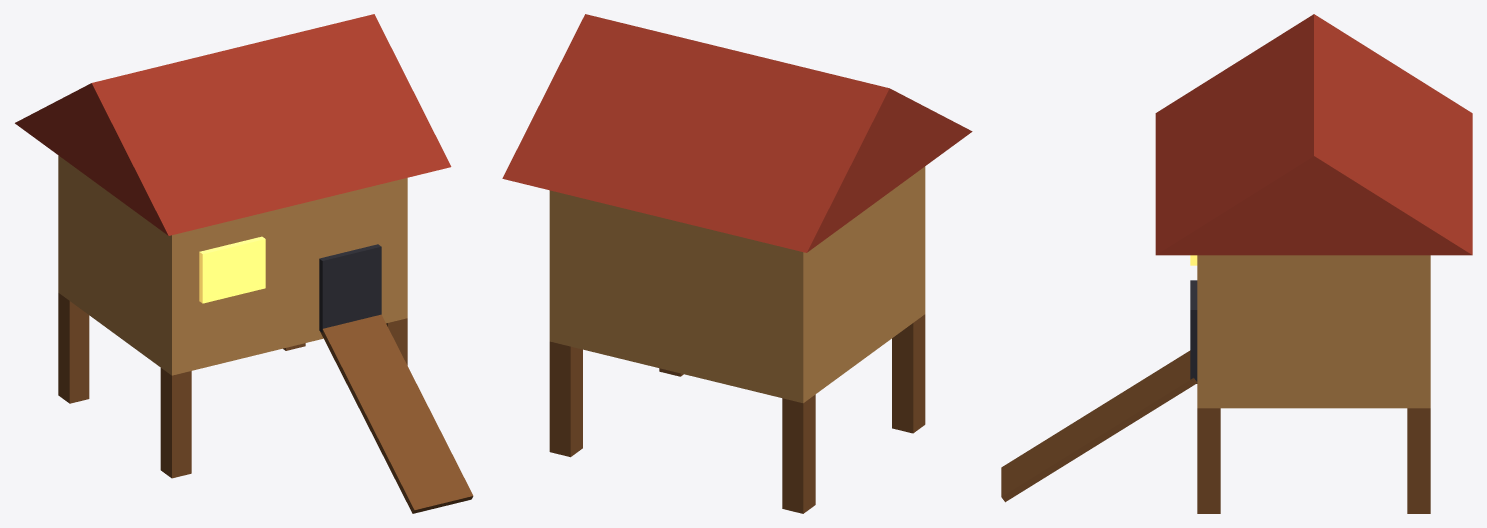
Rendered from chicken_coop.glb.
The picture shows the model from 3 angles, left to right: view 1: azimuth 30°, elevation 25°; view 2: azimuth 150°, elevation 25°; view 3: azimuth 270°, elevation 25°; orthographic projection. The views are drawn at different scales.
Parts seen in each view (by area): view 1: chicken_coop; view 2: chicken_coop; view 3: chicken_coop.
Part boxes in pixels (x1,y1,x2,y2): chicken_coop: (15,14,473,513); chicken_coop: (502,14,972,513); chicken_coop: (1001,14,1472,513).
Bounding box in the file's own units: 1.44 × 1.76 × 2.02.
